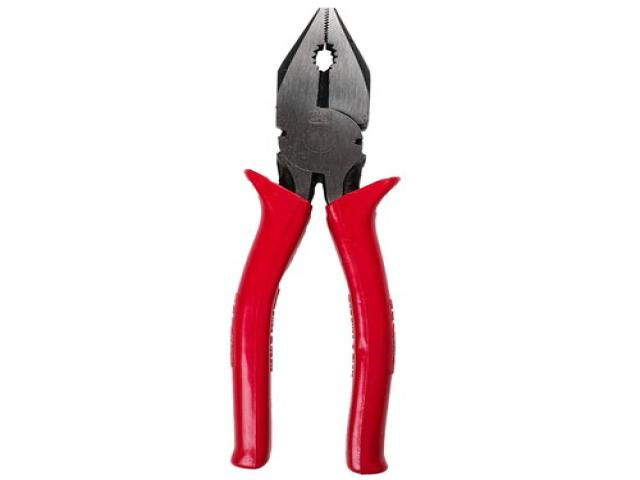Pliers: (231, 8, 399, 473)
